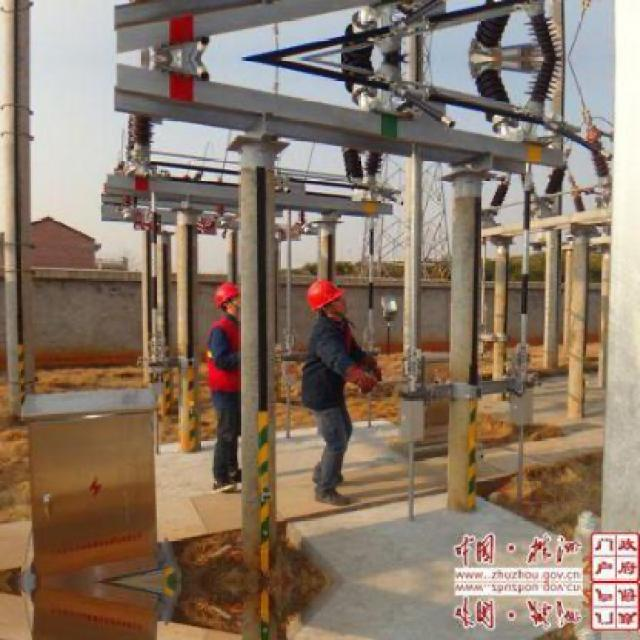helmet: (306, 277, 348, 325), (212, 278, 248, 318)
